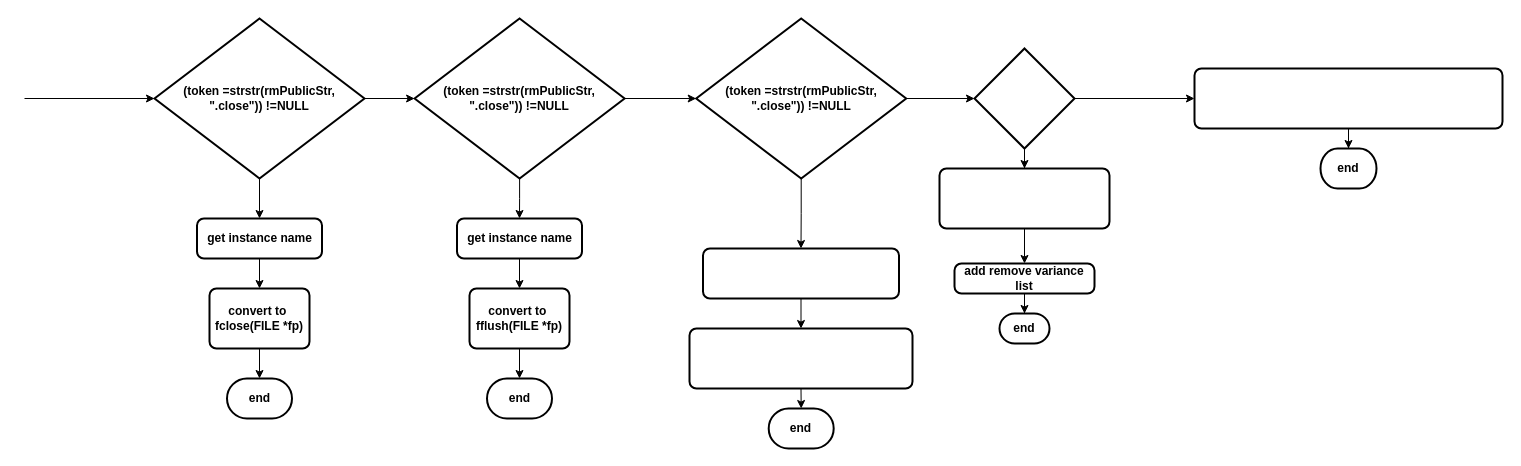
This 1521x466 diagram has some shape labels left out. The shapes that lost their labels are listed below. From the top down, each one's box as (x1, y1, x2, y2) in pixels, then its label:
(973, 47, 1075, 149): if it is class instance
(1193, 67, 1503, 129): insertToBuf (&cFileBuf, &cFileBufSize, rmPublicStr, 0 );
(938, 167, 1110, 229): tokenization and get instance name
(702, 247, 900, 299): tokenization and get instance name, write string
(688, 327, 913, 389): convert to fwrite(char *str, strlne(str), 1, FIle *fp) Form
